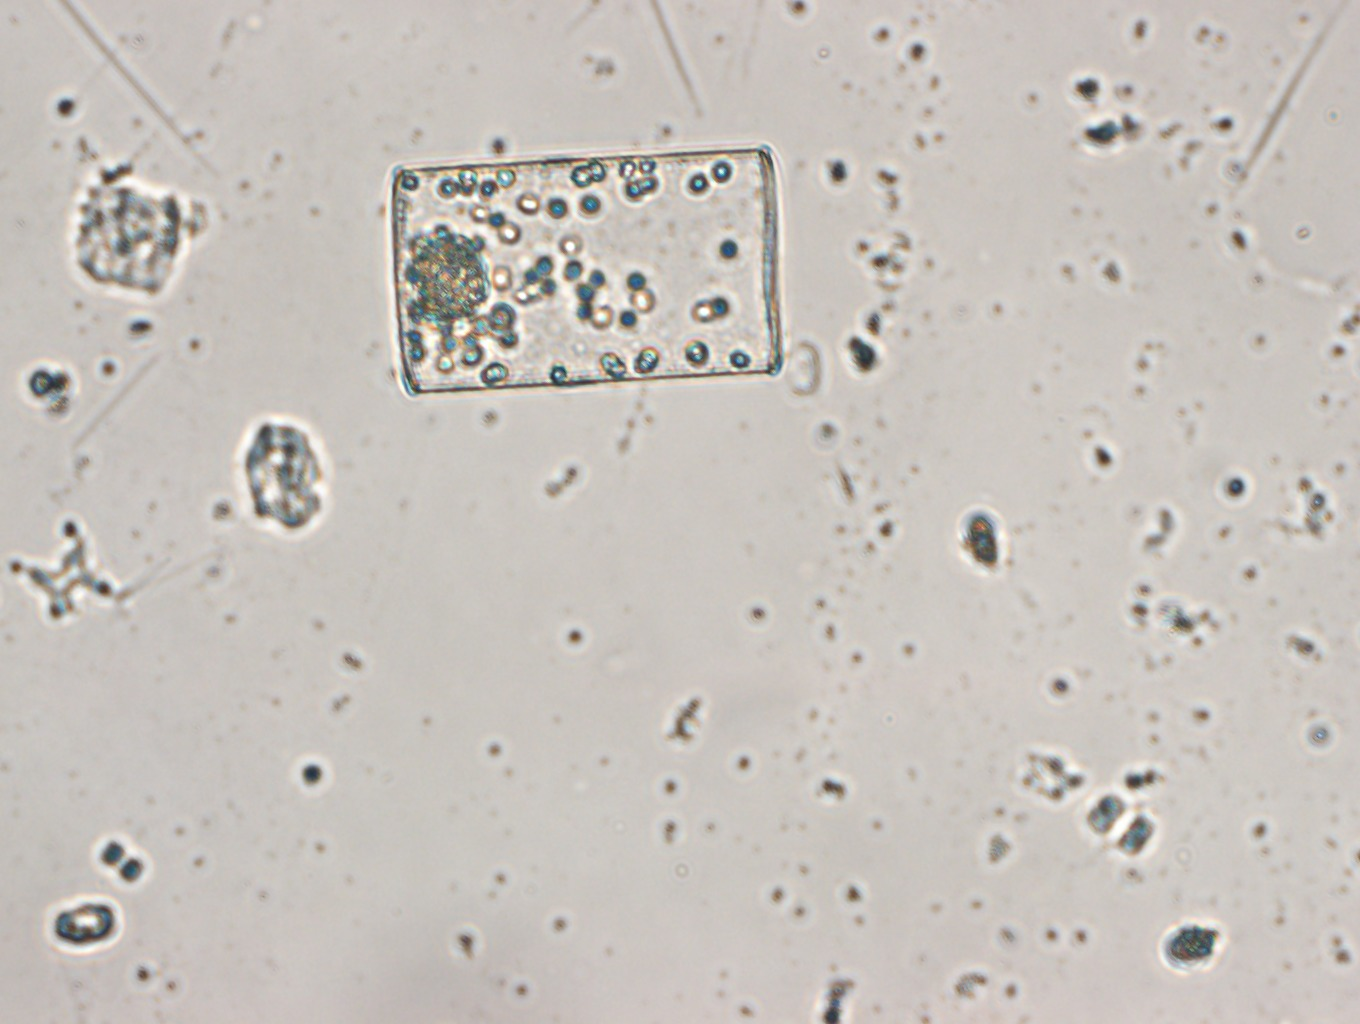guinardia flaccida: (388, 134, 790, 395)
